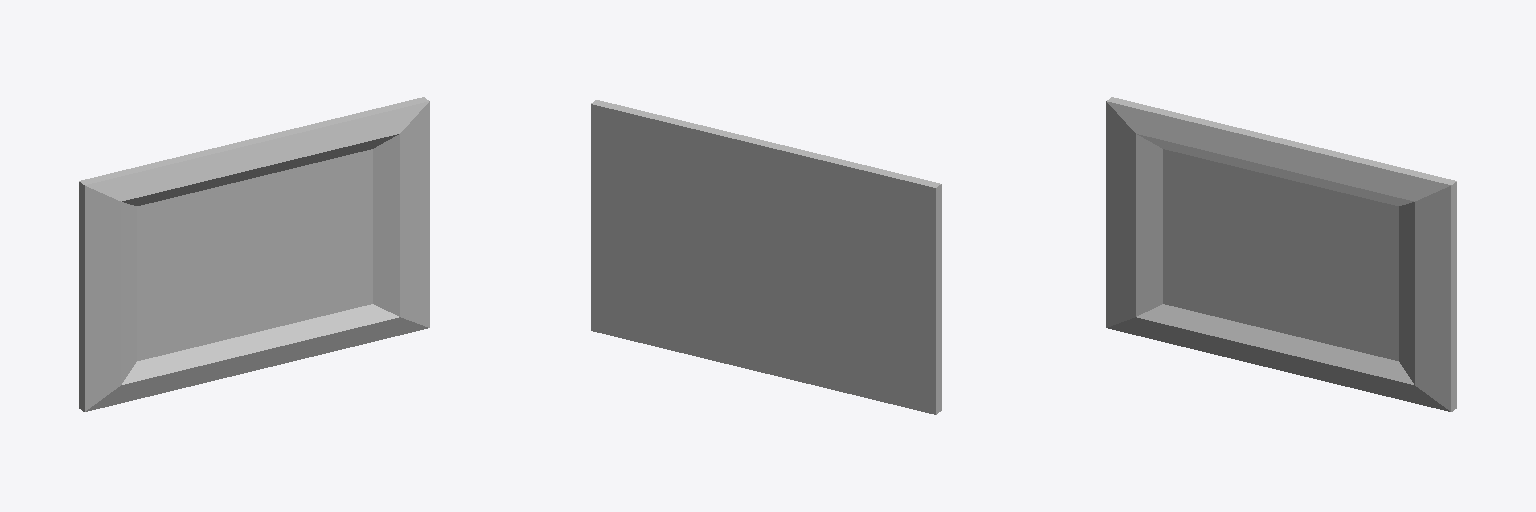
File: frame_1.obj
3 renders of one model, left to right at view 1: azimuth 30°, elevation 25°; view 2: azimuth 150°, elevation 25°; view 3: azimuth 330°, elevation 25°, orthographic.
Parts seen in each view (by area): view 1: frame; view 2: frame; view 3: frame.
Part boxes in pixels (bbox=[...]): frame: bbox=[79, 97, 429, 411]; frame: bbox=[591, 100, 941, 414]; frame: bbox=[1106, 97, 1456, 411].
Bounding box in the file's own units: 15.92 × 10 × 0.7613.